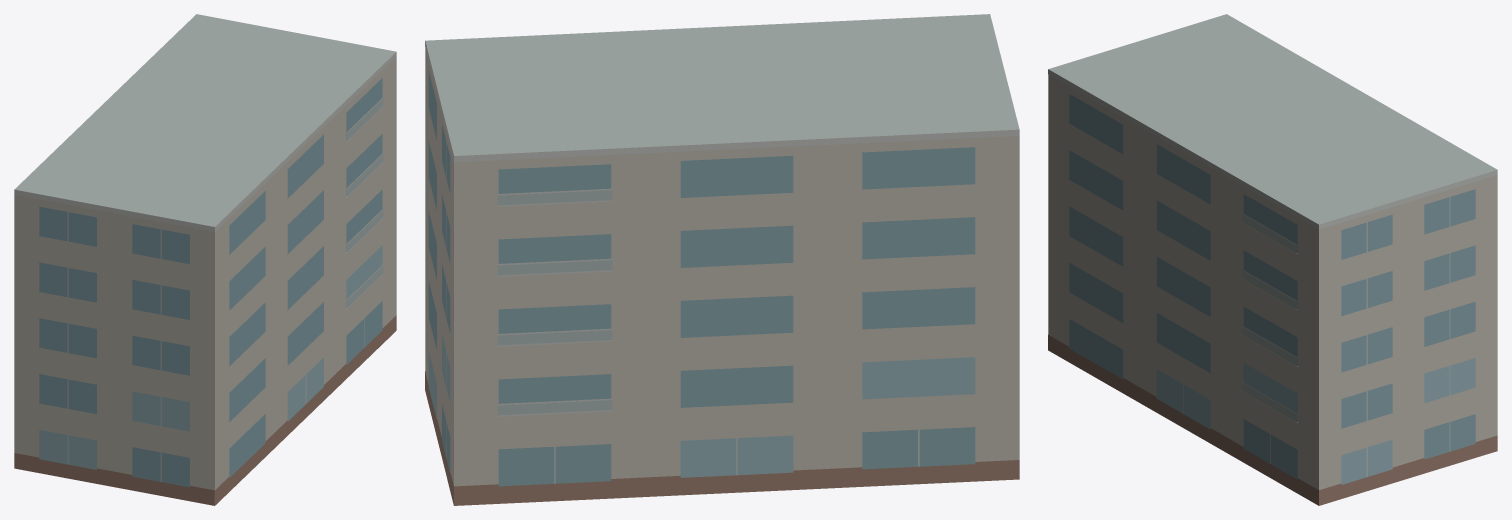
File: survey-upis-32910172.glb
3 renders of one model, left to right at view 1: azimuth 30°, elevation 25°; view 2: azimuth 150°, elevation 25°; view 3: azimuth 270°, elevation 25°, orthographic. The views are drawn at different scales.
Parts seen in each view (by area): view 1: survey-upis-32910172.tmp; view 2: survey-upis-32910172.tmp; view 3: survey-upis-32910172.tmp.
Boxes of the visible parts, x1,y1,x2,y2 form: survey-upis-32910172.tmp: (14,14,396,505); survey-upis-32910172.tmp: (425,14,1019,505); survey-upis-32910172.tmp: (1048,14,1497,505).
Bounding box in the file's own units: 21.86 × 13.6 × 19.71.
